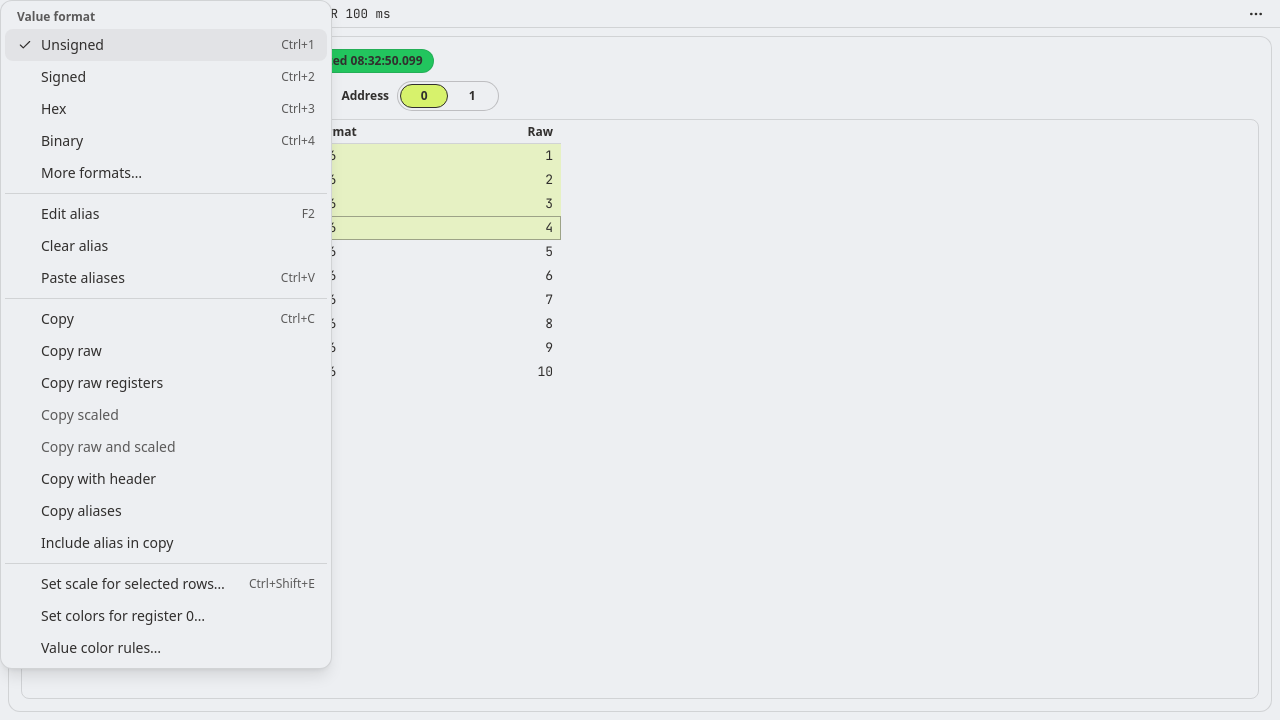
Test case: Value format section of the row menu in workspace › More formats… opens the dialog for the same selection
Click the menu item "More formats…". click: (92, 172)
box: [5, 157, 327, 189]
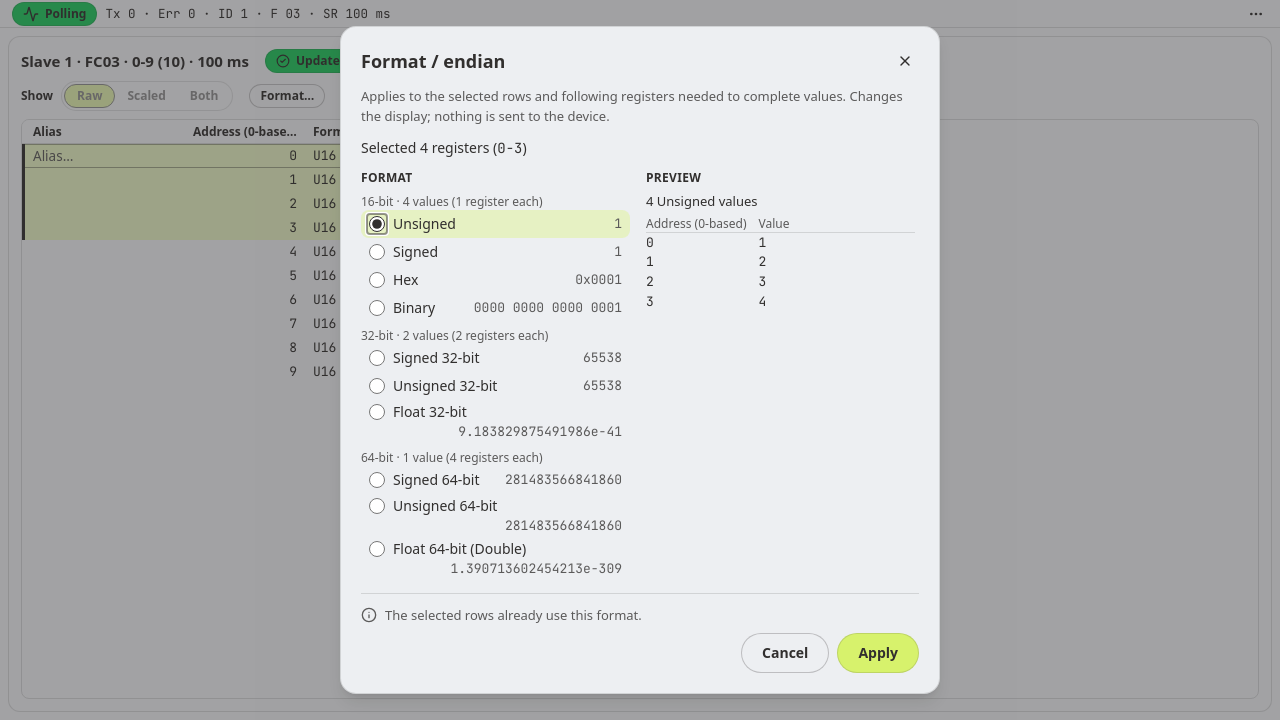
Expected: the element with test id "format-summary" reads "Selected 4 registers (0-3)", [361, 138, 527, 157]
Esc returns the focus to the grid row that opened it
Press Escape in the dialog "Format / endian", box [340, 26, 940, 694]
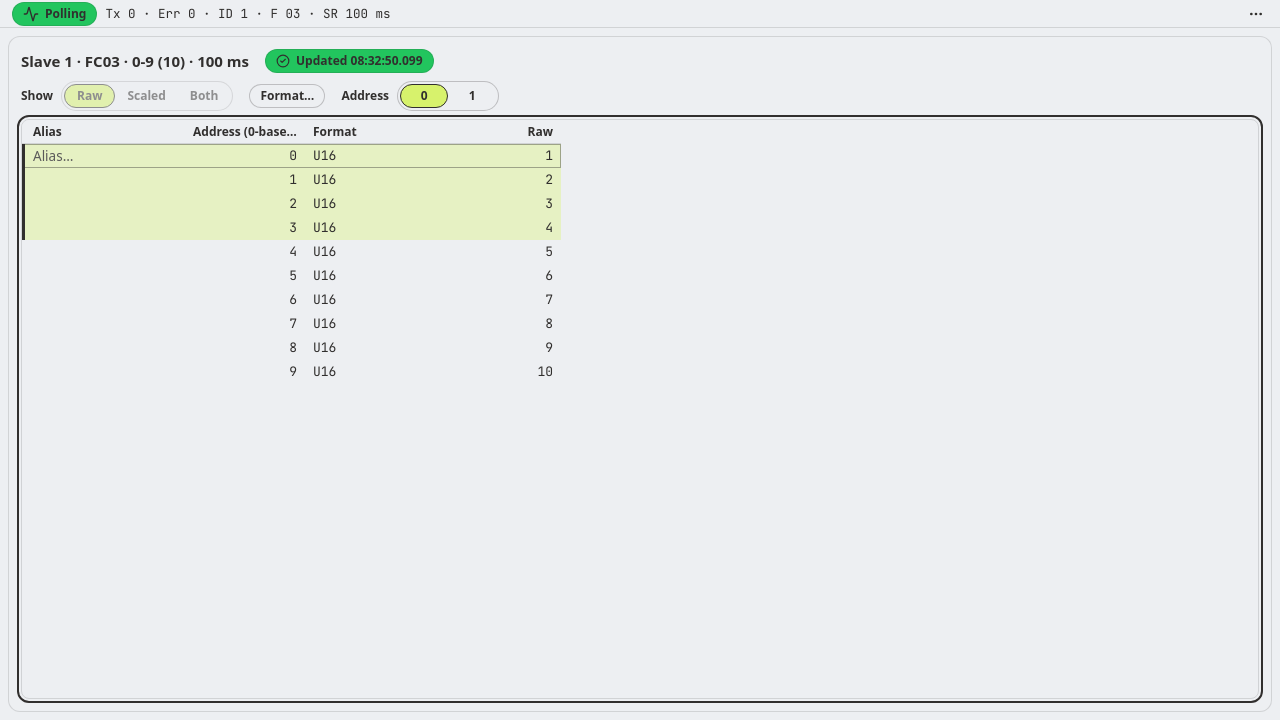
Expected: the dialog is gone
